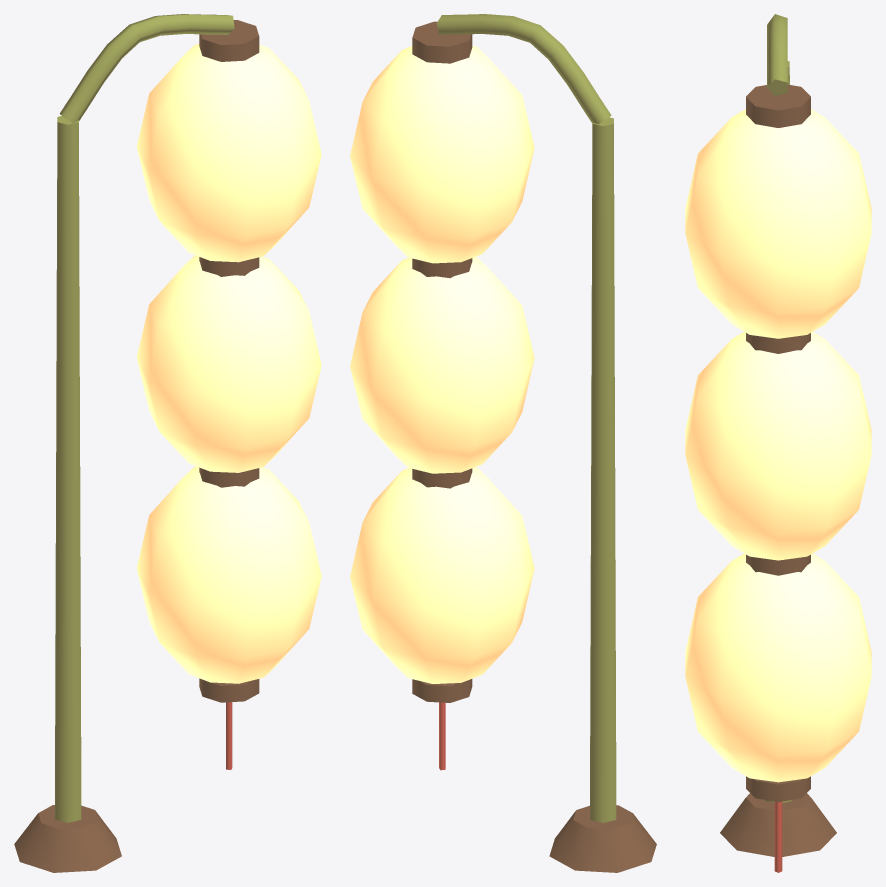
Rendered from prop_tc_long_den_giay_2.b455f64ac4.glb.
3 renders of one model, left to right at view 1: azimuth 30°, elevation 25°; view 2: azimuth 150°, elevation 25°; view 3: azimuth 270°, elevation 25°, orthographic. The views are drawn at different scales.
Visible parts, largest first — view 1: prop_tc_long_den_giay_2; view 2: prop_tc_long_den_giay_2; view 3: prop_tc_long_den_giay_2.
Part boxes in pixels (x1,y1,x2,y2): prop_tc_long_den_giay_2: (14,14,321,872); prop_tc_long_den_giay_2: (350,14,656,872); prop_tc_long_den_giay_2: (685,14,871,872).
Size of what is drawn, in the model's own units: 1.08 by 2.89 by 0.5706.
